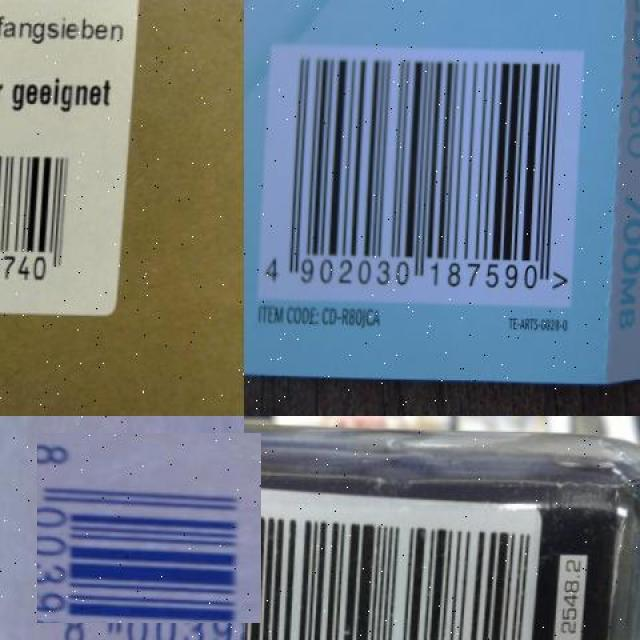Barcode: (263, 46, 589, 301), (244, 488, 540, 640), (45, 424, 252, 632), (0, 132, 95, 297)
